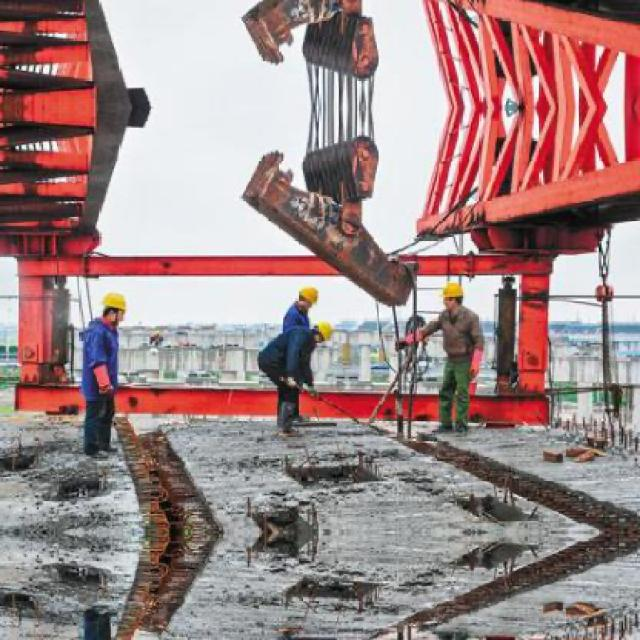con casco: (72, 289, 151, 347), (422, 282, 482, 326), (292, 320, 343, 369), (287, 279, 322, 328)
